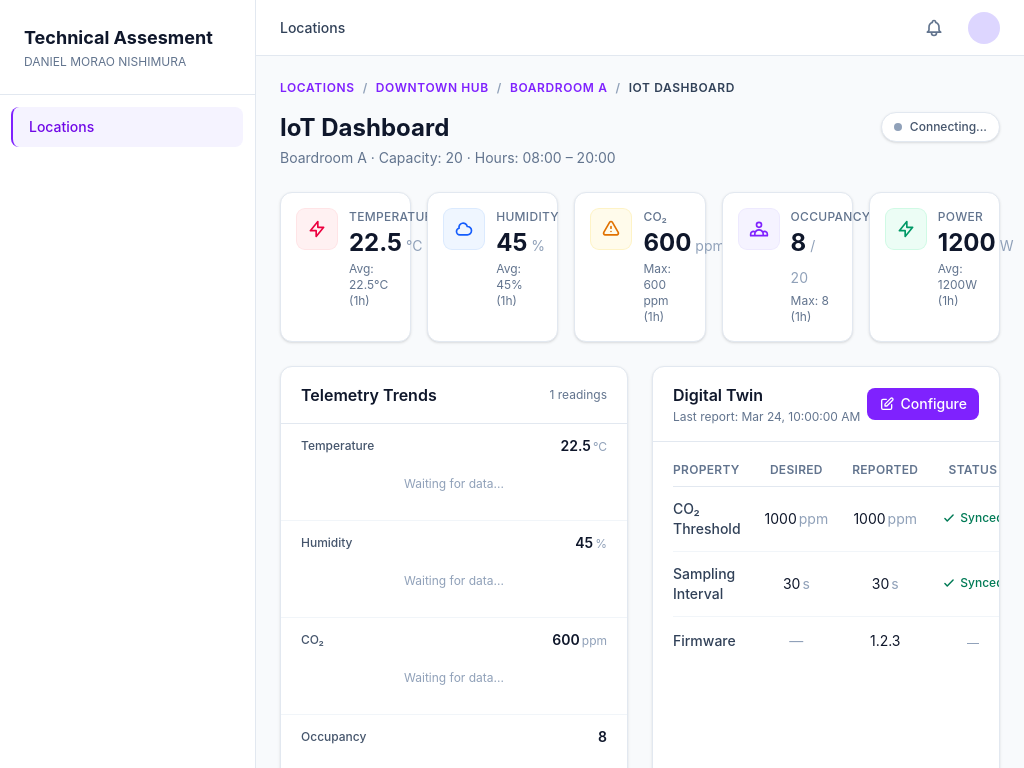
it: IoT Dashboard page › opens Device Configuration modal on Configure click
Click the button "Configure": click(924, 404) [867,388,980,420]
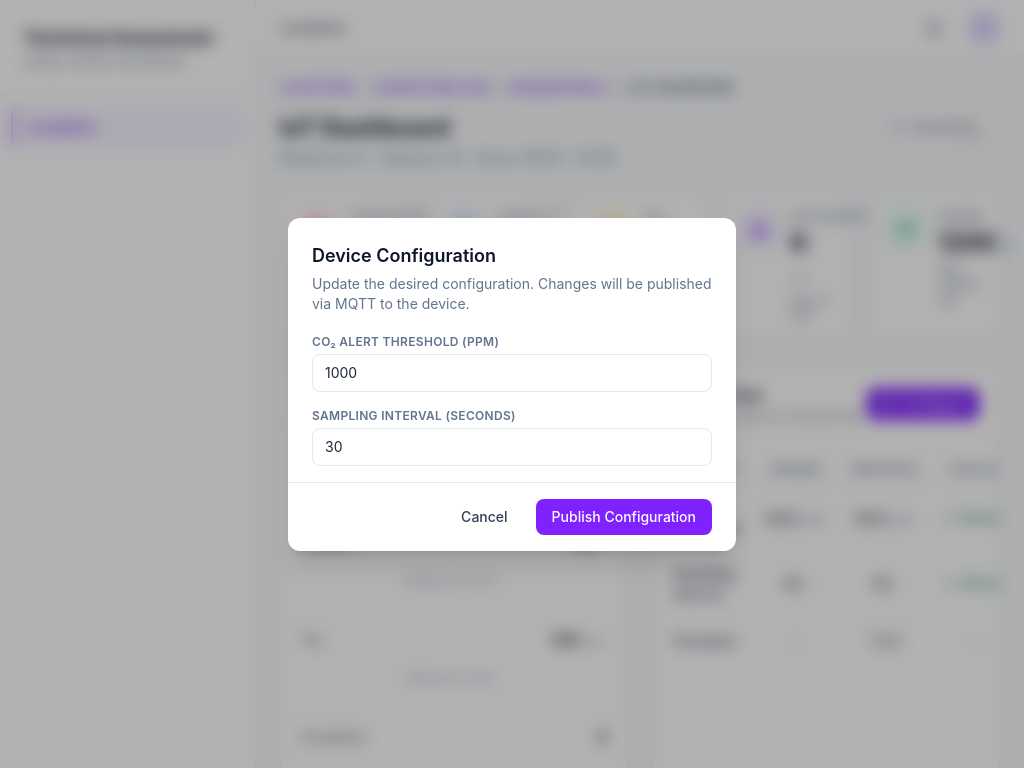
Check: the heading "Device Configuration" is shown, box [312,244,496,266]
Check: the number field named "co2AlertThreshold" holds "1000", box [312,354,712,392]
Check: the number field named "samplingIntervalSec" holds "30", box [312,428,712,466]
